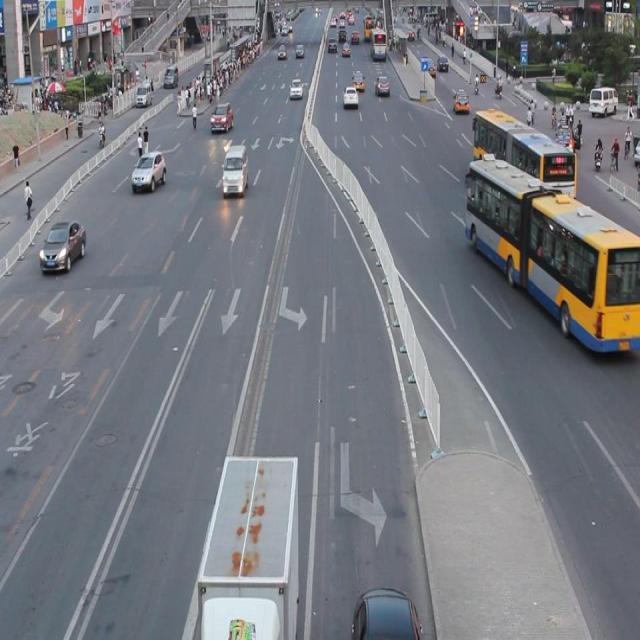bus: (199, 452, 299, 640)
car: (353, 585, 422, 640), (39, 221, 87, 272), (130, 151, 167, 190)
truck: (222, 144, 248, 196)
van: (466, 160, 640, 349), (474, 111, 575, 214)
